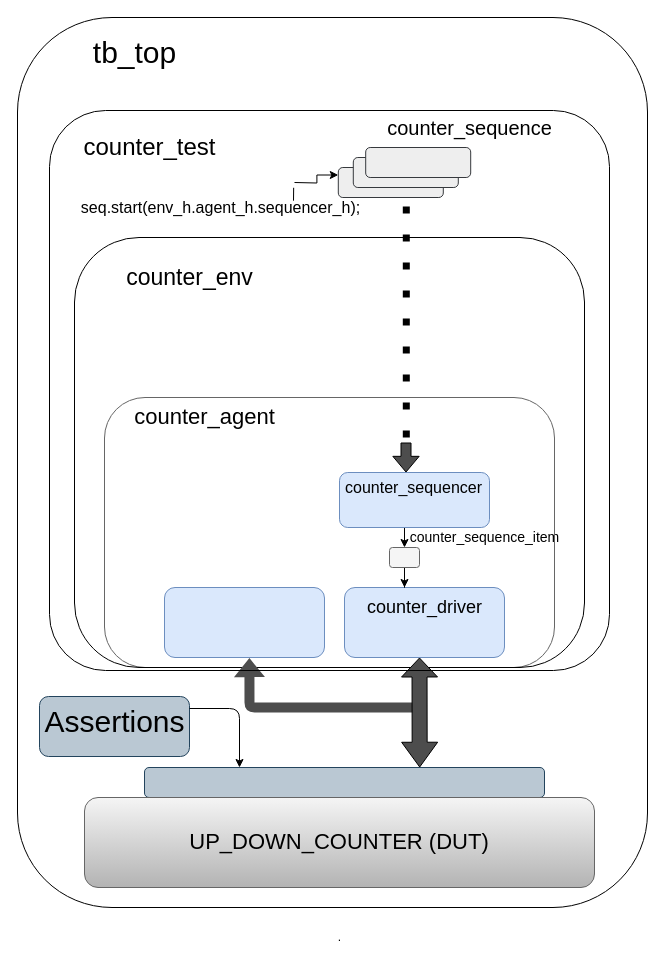
Image size: 665x965. Some labels were removed from this diagram. Here are the shapes that lost their labels. From the top down, the box of each, then its label:
(164, 586, 324, 658): counter_monitor
(144, 766, 544, 798): interface
